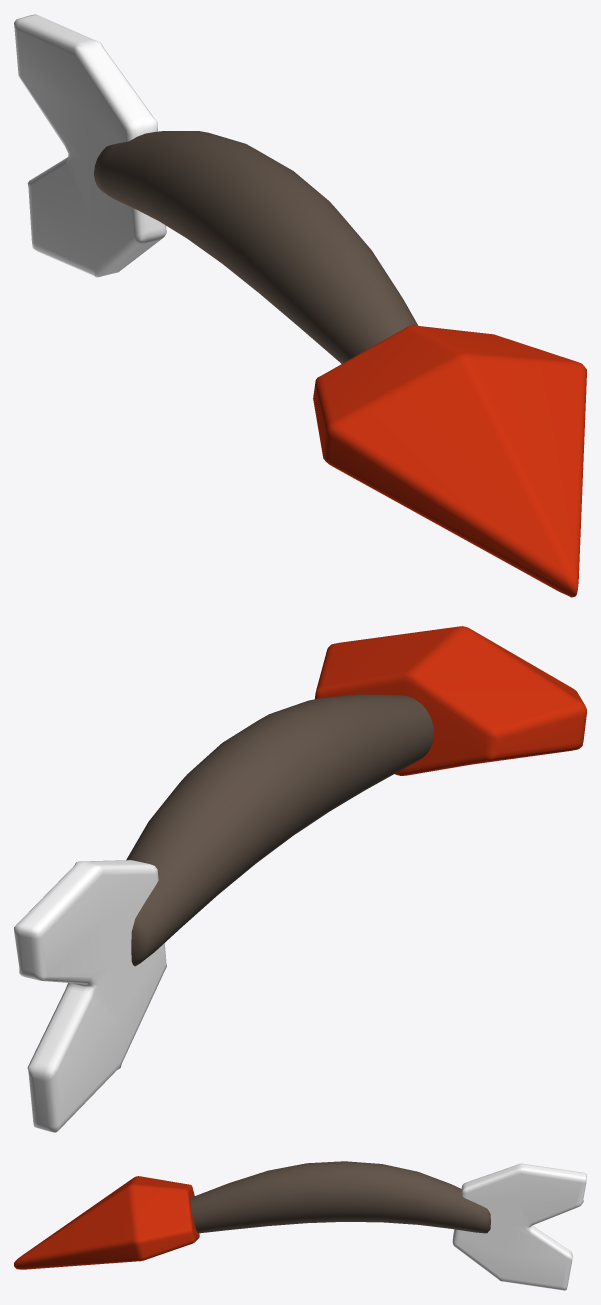
The model's file is Arrow.fbx.
3 views of the same model, one above another, from view 1: azimuth 30°, elevation 25°; view 2: azimuth 150°, elevation 25°; view 3: azimuth 270°, elevation 25° (orthographic). The views are drawn at different scales.
Visible parts, largest first — view 1: Cube.052; view 2: Cube.052; view 3: Cube.052.
Boxes of the visible parts, x1,y1,x2,y2 form: Cube.052: (14, 14, 586, 597); Cube.052: (14, 626, 586, 1132); Cube.052: (14, 1161, 586, 1290).
Bounding box in the file's own units: 30.71 × 27.35 × 114.
1 material, 1 textured.
